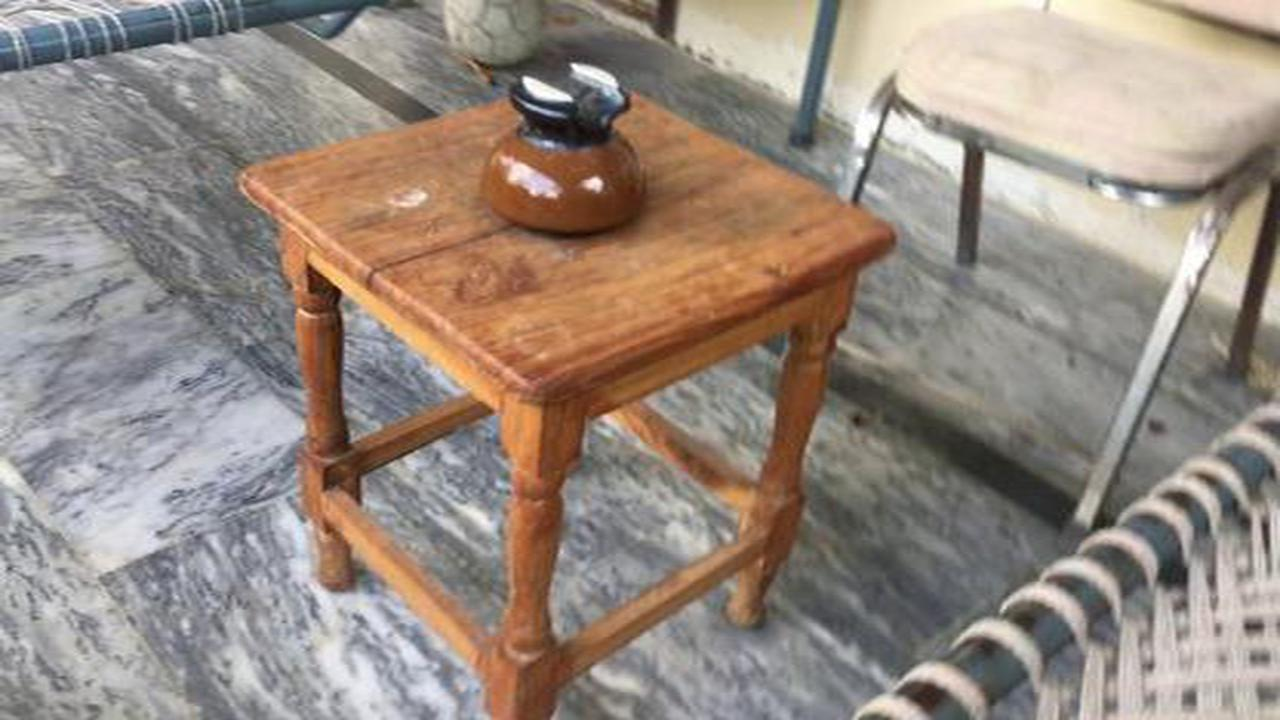insulator_pin: (462, 49, 662, 243)
